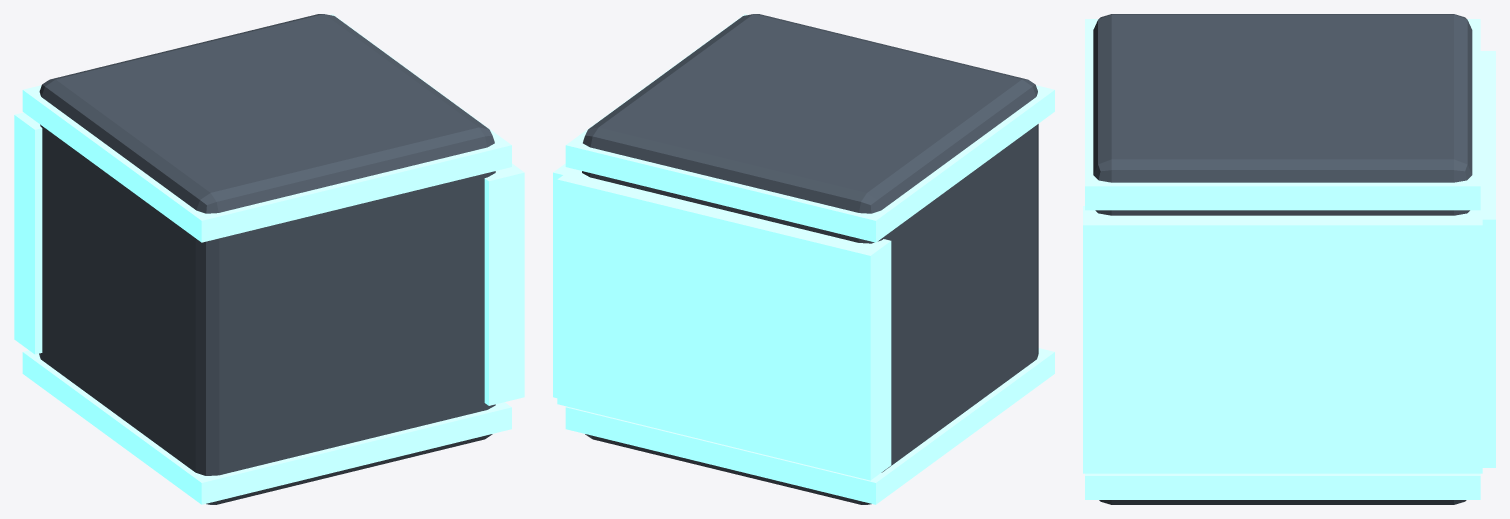
The model's file is crate.glb.
3 renders of one model, left to right at view 1: azimuth 30°, elevation 25°; view 2: azimuth 150°, elevation 25°; view 3: azimuth 270°, elevation 25°, orthographic. The views are drawn at different scales.
Visible parts, largest first — view 1: body, edge.001, edge, side_glow, side_glow.001; view 2: body, side_glow.001, edge.001, edge, side_glow; view 3: side_glow, body, edge.001, edge, side_glow.001.
Part boxes in pixels (<box>): body: <box>39,14,495,504</box>; edge.001: <box>22,14,511,242</box>; edge: <box>22,350,511,504</box>; side_glow: <box>484,163,524,405</box>; side_glow.001: <box>14,112,42,354</box>; body: <box>582,14,1038,504</box>; side_glow.001: <box>557,169,891,480</box>; edge.001: <box>565,14,1054,242</box>; edge: <box>565,348,1054,504</box>; side_glow: <box>553,163,592,397</box>; side_glow: <box>1083,206,1482,473</box>; body: <box>1093,14,1472,504</box>; edge.001: <box>1085,19,1480,210</box>; edge: <box>1085,473,1480,499</box>; side_glow.001: <box>1450,51,1495,467</box>.
Size of the model in its own units: 1.08 by 1 by 1.08.
